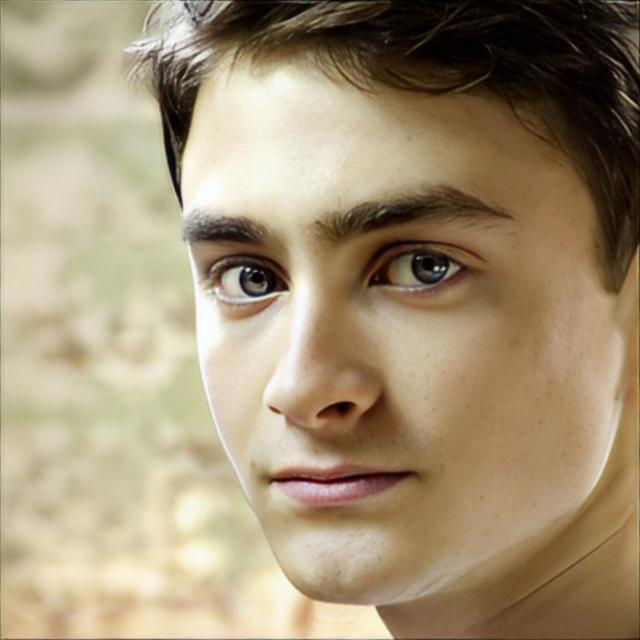neutral: (179, 33, 627, 606)
